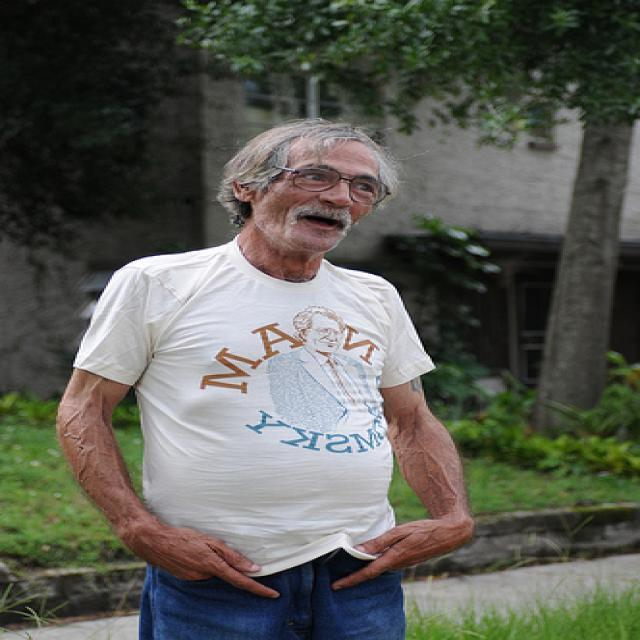short sleeve shirt: (63, 234, 439, 578)
trousers: (135, 548, 405, 640)
